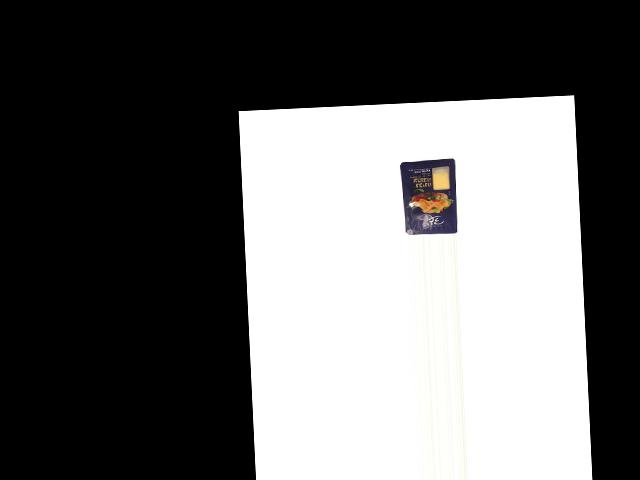cheese: (398, 158, 458, 236)
